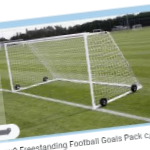goals: (3, 30, 142, 113)
